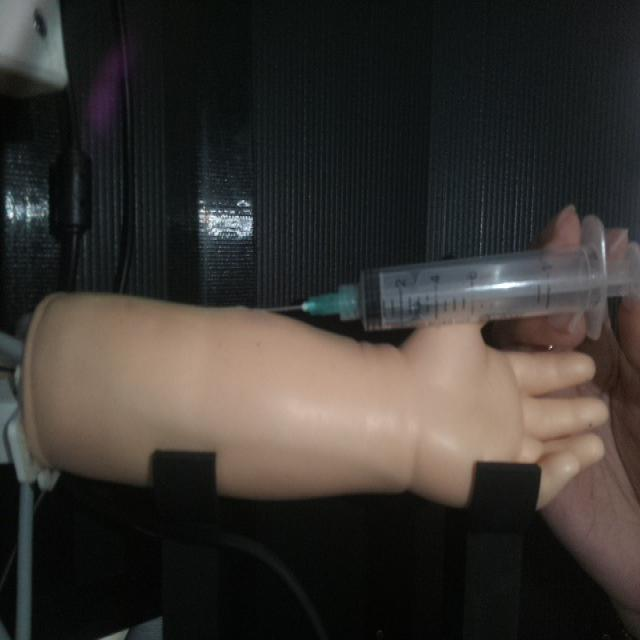Outside: (249, 212, 640, 357)
